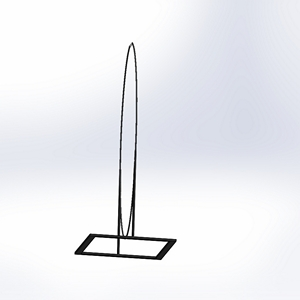circle: (74, 39, 178, 261)
